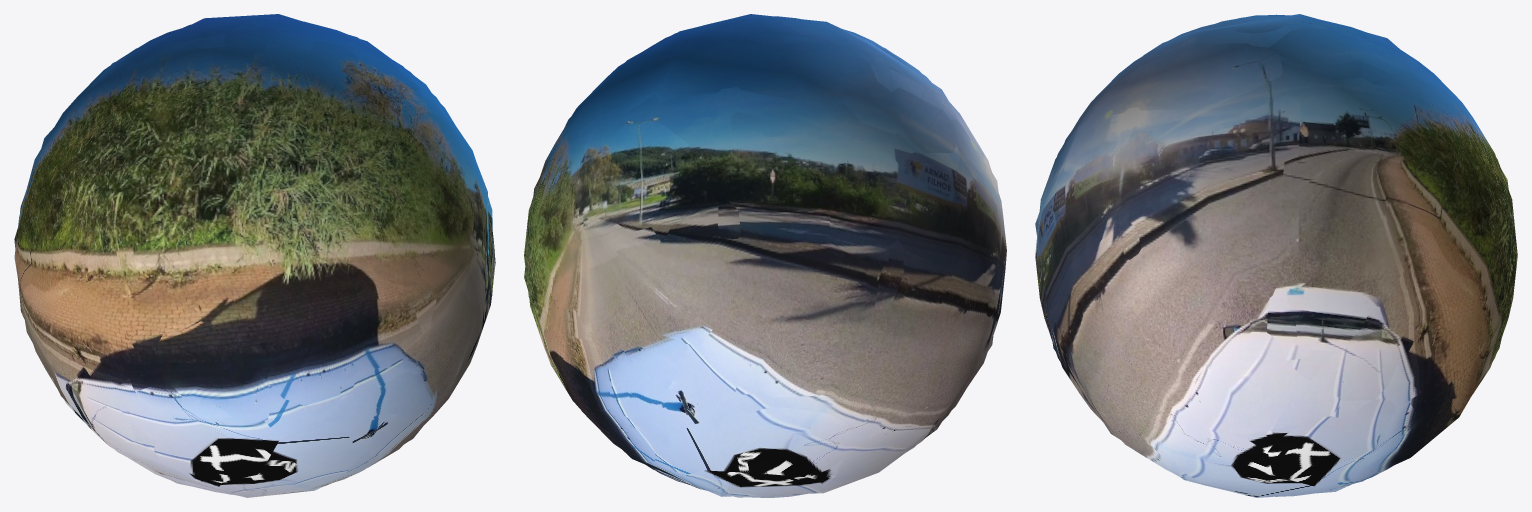
The model's file is __lods__Overtaking-6.glb.
The picture shows the model from 3 angles, left to right: view 1: azimuth 30°, elevation 25°; view 2: azimuth 150°, elevation 25°; view 3: azimuth 270°, elevation 25°; orthographic projection.
Visible parts, largest first — view 1: __LOD_2__Sphere, __LOD_1__Sphere, __LOD_0__Sphere; view 2: __LOD_2__Sphere, __LOD_1__Sphere, __LOD_0__Sphere; view 3: __LOD_2__Sphere, __LOD_1__Sphere, __LOD_0__Sphere.
Part boxes in pixels (left/top/right/bottom): __LOD_2__Sphere: left=14, top=14, right=489, bottom=497; __LOD_1__Sphere: left=14, top=15, right=493, bottom=496; __LOD_0__Sphere: left=16, top=16, right=495, bottom=494; __LOD_2__Sphere: left=524, top=14, right=998, bottom=496; __LOD_1__Sphere: left=524, top=15, right=1006, bottom=497; __LOD_0__Sphere: left=525, top=16, right=1006, bottom=497; __LOD_2__Sphere: left=1035, top=14, right=1517, bottom=497; __LOD_1__Sphere: left=1035, top=15, right=1517, bottom=497; __LOD_0__Sphere: left=1035, top=14, right=1517, bottom=496.
Bounding box in the file's own units: 2 × 2 × 2.
Materials: 1 (1 with a texture image).
